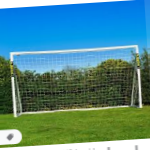goals: (8, 44, 144, 118)
